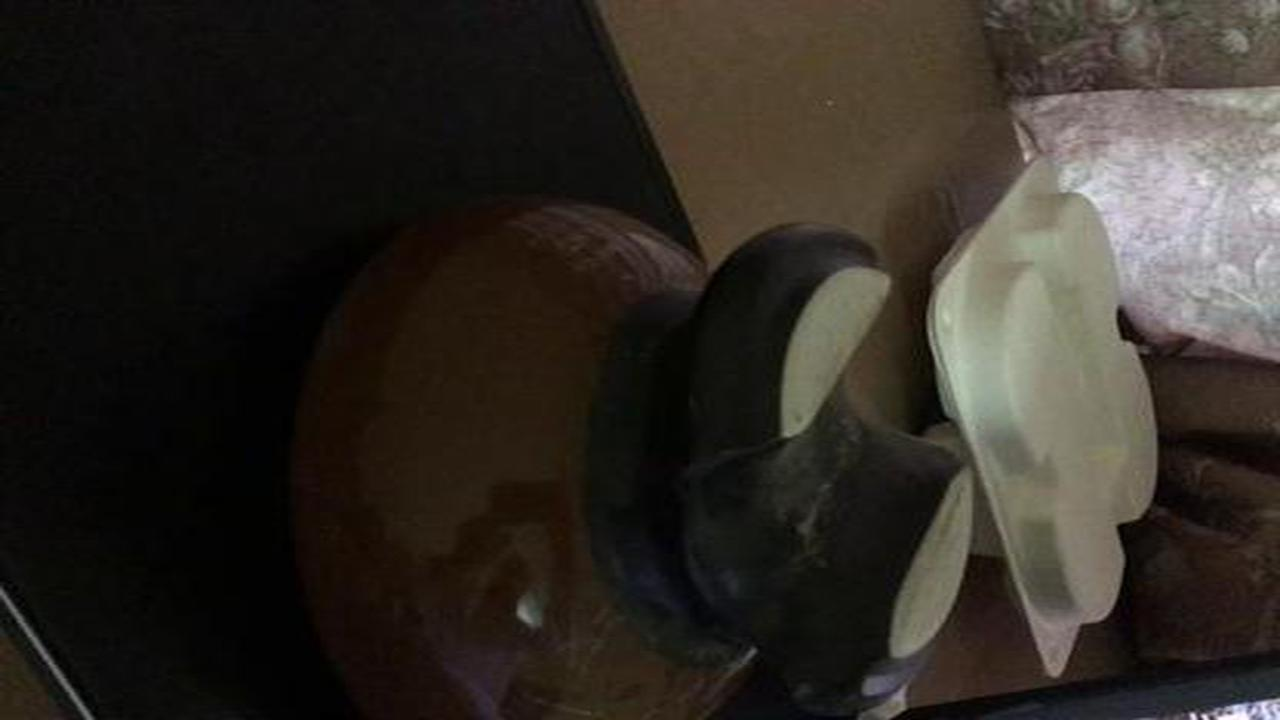insulator_pin: (256, 172, 994, 719)
